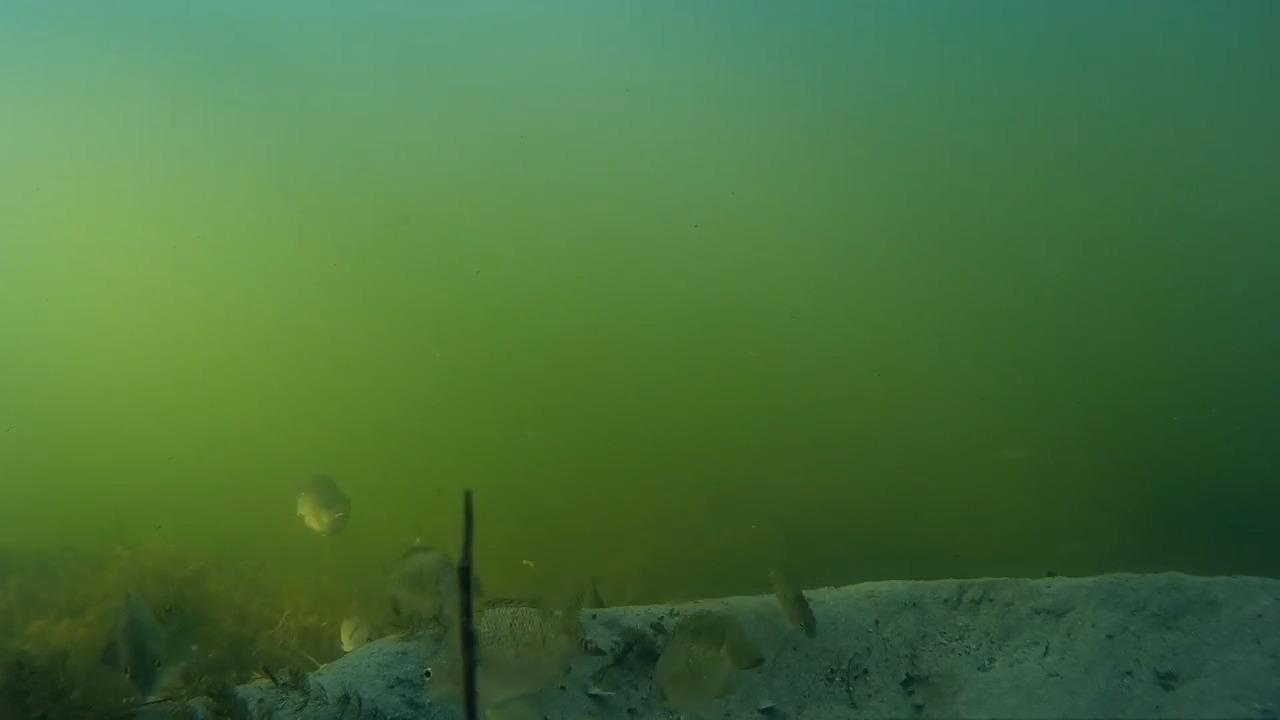Tilapia: (412, 592, 601, 720), (646, 606, 769, 720), (371, 528, 490, 626), (754, 570, 865, 674), (103, 588, 197, 694), (286, 468, 355, 544)
